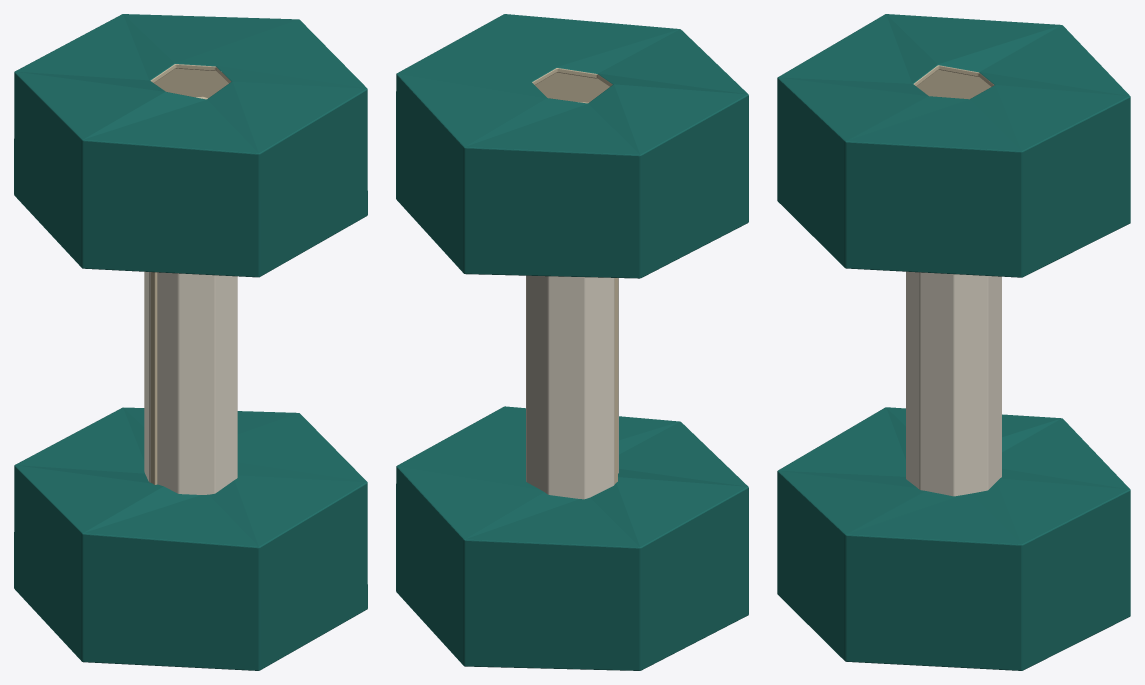
Rendered from achievement-first-rep.glb.
3 views of the same model, side by side, from view 1: azimuth 30°, elevation 25°; view 2: azimuth 150°, elevation 25°; view 3: azimuth 270°, elevation 25° (orthographic).
Visible parts, largest first — view 1: achievement-first-rep; view 2: achievement-first-rep; view 3: achievement-first-rep.
Boxes of the visible parts, x1,y1,x2,y2 form: achievement-first-rep: [14, 14, 367, 670]; achievement-first-rep: [396, 14, 748, 670]; achievement-first-rep: [777, 14, 1130, 670].
Size of the model in its own units: 0.7295 by 1.29 by 0.782.
